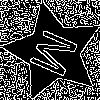M: (28, 26, 89, 84)
